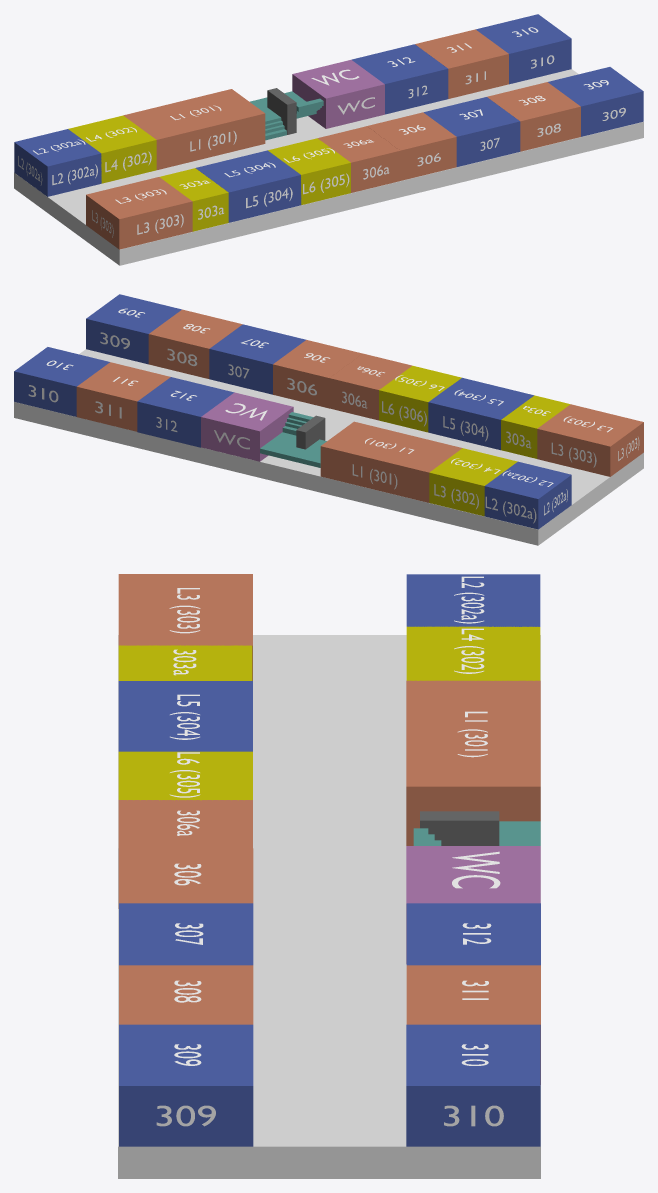
File: NastavniBlokUcionice4.glb
3 views of the same model, one above another, from view 1: azimuth 30°, elevation 25°; view 2: azimuth 150°, elevation 25°; view 3: azimuth 270°, elevation 25° (orthographic). The views are drawn at different scales.
Parts seen in each view (by area): view 1: Cube, 015.001, 015, 013.002, WC, SS, SS.001, ?.004, ?.002, ?.003, ?.001, ? (+7 smaller); view 2: Cube, 015.001, 015, 013.002, WC, SS.001, SS, ?.004, ?.002, ?.003, ?.001, ? (+10 smaller); view 3: Cube, 015.001, ?.004, ?.002, 015, SS.001, SS, ?.003, ?.001, WC, ?, 013.001 (+8 smaller).
Part boxes in pixels (x1,y1,x2,y2): Cube: (14,69,643,265); 015.001: (123,89,265,169); 015: (86,177,192,249); 013.002: (14,129,101,196); WC: (292,60,384,128); SS: (423,97,520,166); SS.001: (351,44,448,114); ?.004: (476,14,571,84); ?.002: (548,67,643,136); ?.003: (415,29,508,98); ?.001: (487,82,580,151); ?: (367,112,456,180); Cube: (14,349,643,545); 015.001: (320,421,462,502); 015: (537,404,643,476); 013.002: (484,461,571,529); WC: (201,392,293,461); SS.001: (137,377,234,447); SS: (209,324,305,394); ?.004: (14,347,109,416); ?.002: (86,294,181,364); ?.003: (76,362,170,431); ?.001: (148,309,242,378); ?: (273,340,362,408); Cube: (118,635,540,1178); 015.001: (406,680,540,845); ?.004: (406,1024,540,1146); ?.002: (119,1024,253,1146); 015: (118,574,252,680); SS.001: (406,903,540,965); SS: (119,903,253,965); ?.003: (406,965,540,1084); ?.001: (119,965,253,1024); WC: (406,846,540,963); ?: (119,848,253,903); 013.001: (406,626,540,680).
Size of the model in its own units: 36.83 by 3.19 by 12.9.
